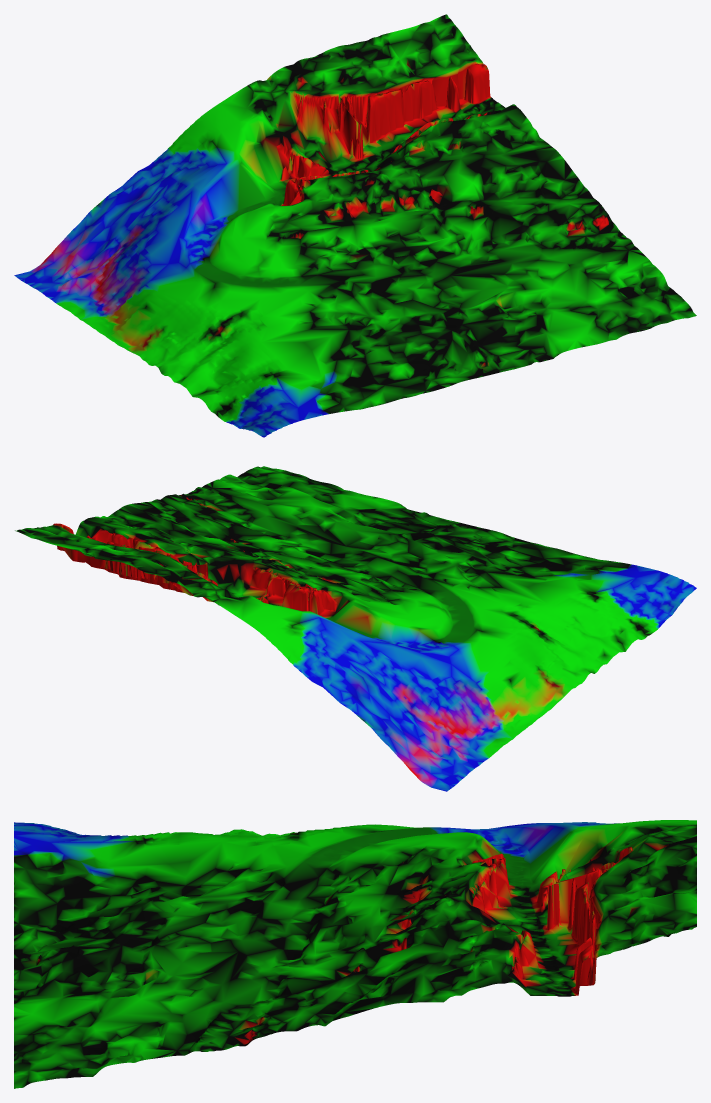
3 renders of one model, top to bottom at view 1: azimuth 30°, elevation 25°; view 2: azimuth 150°, elevation 25°; view 3: azimuth 270°, elevation 25°, orthographic. The views are drawn at different scales.
Parts seen in each view (by area): view 1: N_2_1; view 2: N_2_1; view 3: N_2_1.
Boxes of the visible parts, left/top/right/bottom form: N_2_1: left=14, top=14, right=696, bottom=437; N_2_1: left=15, top=466, right=696, bottom=791; N_2_1: left=14, top=820, right=696, bottom=1088.
Size of the model in its own units: 256 by 87.94 by 256.
